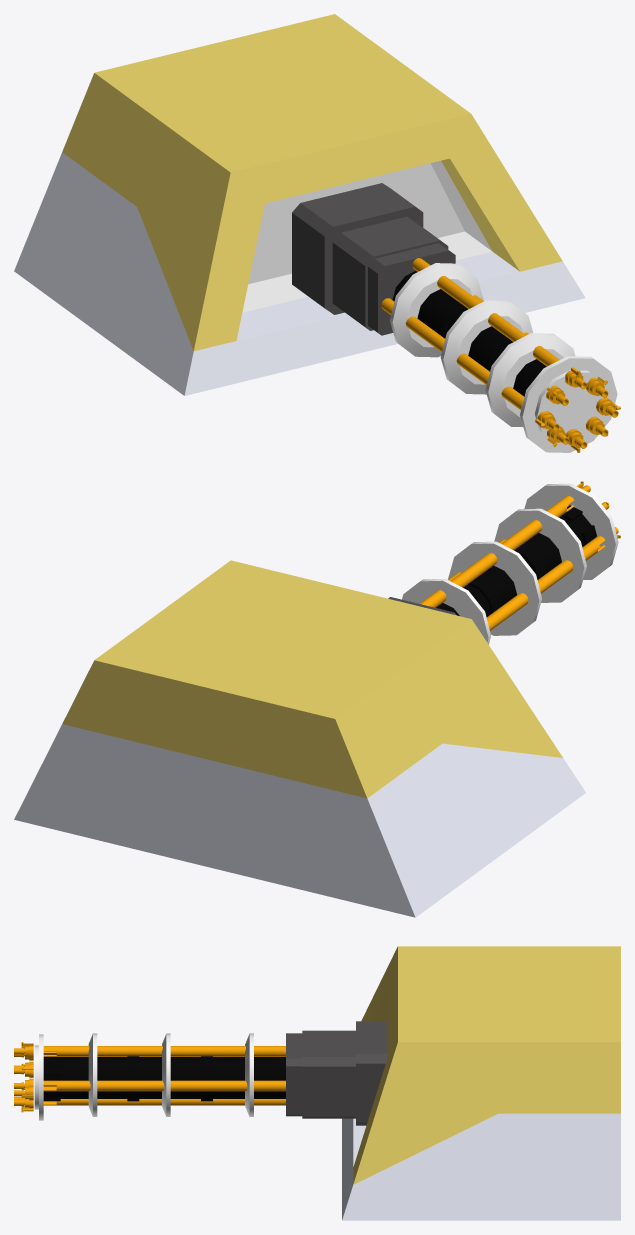
File: AutoCannon1.fbx
3 views of the same model, one above another, from view 1: azimuth 30°, elevation 25°; view 2: azimuth 150°, elevation 25°; view 3: azimuth 270°, elevation 25° (orthographic). The views are drawn at different scales.
Visible parts, largest first — view 1: mergedBlocks; view 2: mergedBlocks; view 3: mergedBlocks.
Part boxes in pixels (x1,y1,x2,y2): mergedBlocks: [14, 14, 620, 452]; mergedBlocks: [14, 481, 620, 917]; mergedBlocks: [14, 946, 620, 1220].
Size of the model in its own units: 77.44 by 33 by 124.
